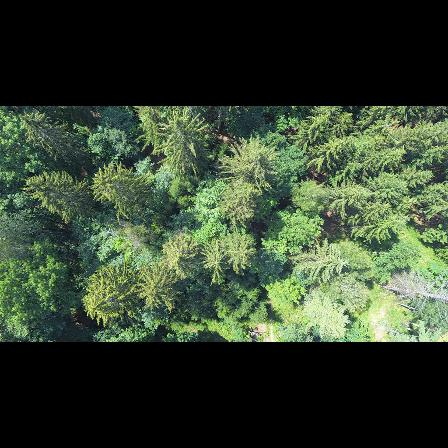Dead: (382, 272, 448, 320)
